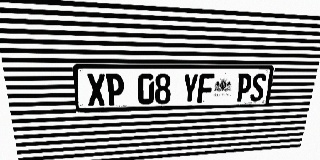0: (138, 73, 154, 105)
8: (154, 73, 172, 104)
F: (197, 73, 215, 103)
P: (105, 73, 124, 106), (235, 73, 253, 102)
S: (249, 73, 267, 101)
X: (86, 74, 106, 106)
Y: (182, 73, 199, 103)
